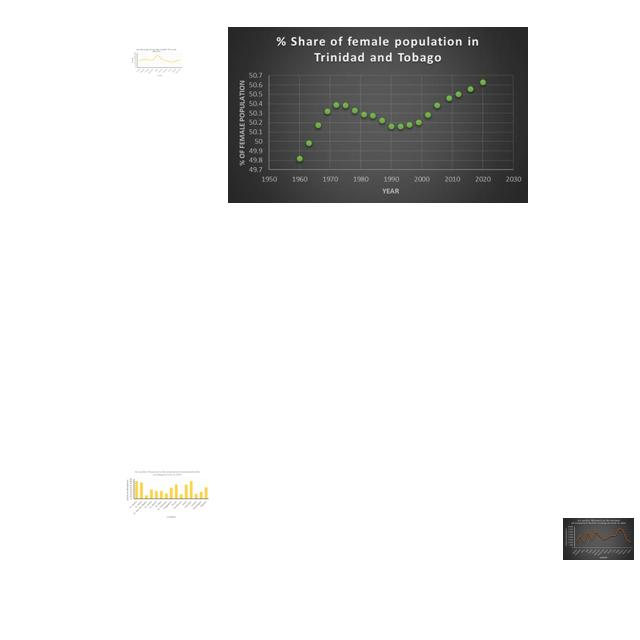Graph: (228, 27, 528, 203), (125, 469, 211, 521), (563, 518, 634, 560), (130, 48, 183, 77)
